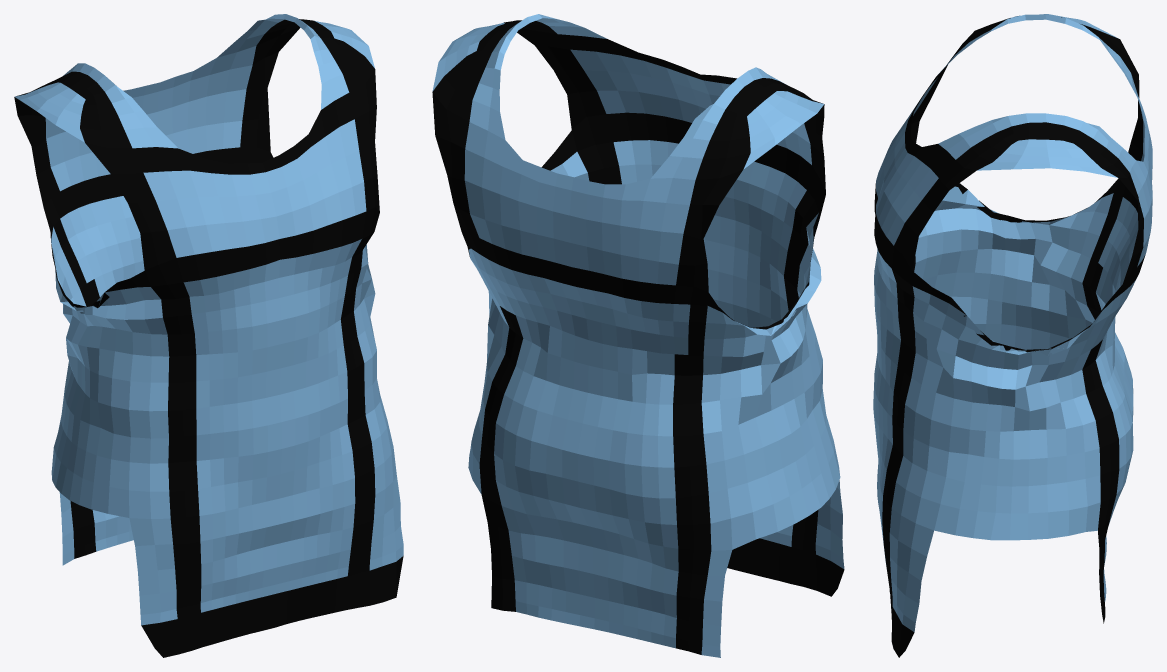
File: protection.fbx
3 renders of one model, left to right at view 1: azimuth 30°, elevation 25°; view 2: azimuth 150°, elevation 25°; view 3: azimuth 270°, elevation 25°, orthographic. The views are drawn at different scales.
Visible parts, largest first — view 1: Cube; view 2: Cube; view 3: Cube.
Boxes of the visible parts, x1,y1,x2,y2 form: Cube: (14, 14, 403, 657); Cube: (432, 14, 844, 657); Cube: (873, 14, 1152, 657).
Size of the model in its own units: 54.56 by 87.31 by 41.58.
